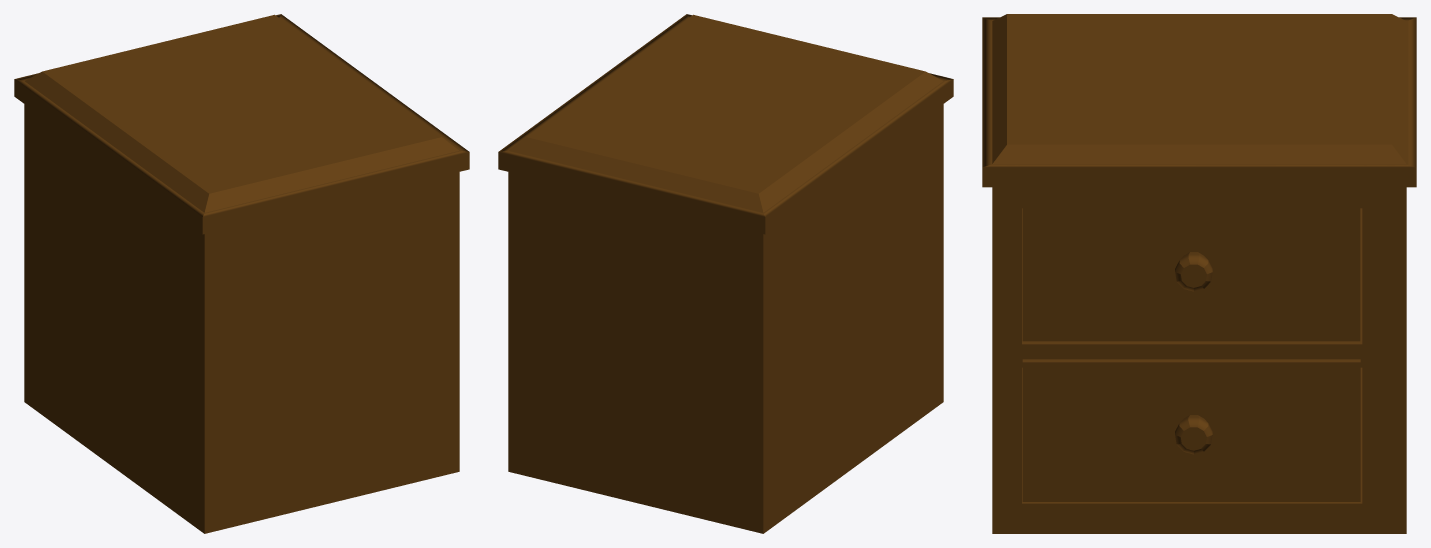
The model's file is NightStand_01RK.fbx.
The picture shows the model from 3 angles, left to right: view 1: azimuth 30°, elevation 25°; view 2: azimuth 150°, elevation 25°; view 3: azimuth 270°, elevation 25°; orthographic projection. The views are drawn at different scales.
Parts seen in each view (by area): view 1: Nightstand; view 2: Nightstand; view 3: Nightstand.
Boxes of the visible parts, x1=… form: Nightstand: x1=14, y1=14, x2=469, y2=533; Nightstand: x1=498, y1=14, x2=953, y2=533; Nightstand: x1=982, y1=14, x2=1416, y2=533.
Size of the model in its own units: 74.83 by 82.41 by 84.67.
